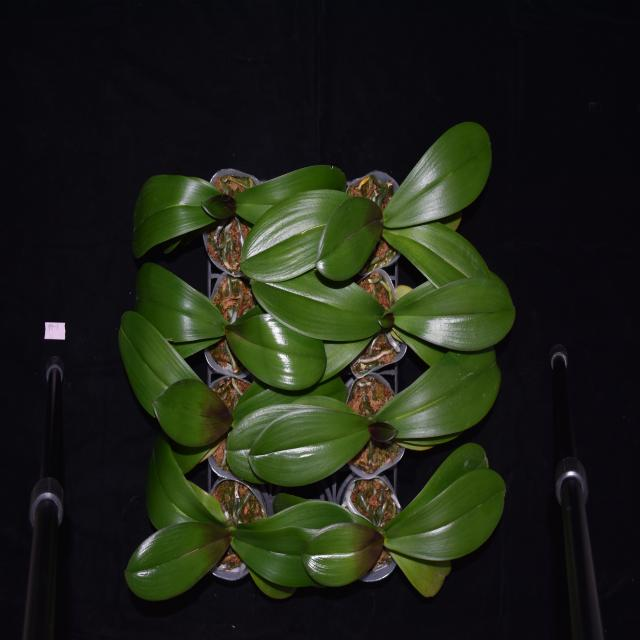leaf: (381, 352, 504, 448), (387, 124, 490, 236), (378, 435, 489, 535), (248, 264, 383, 344), (383, 470, 507, 557), (238, 191, 353, 282), (389, 267, 517, 348), (250, 410, 368, 492), (123, 516, 233, 603), (114, 307, 200, 416), (130, 263, 224, 362), (226, 304, 328, 390), (128, 169, 224, 257), (382, 216, 494, 290), (145, 437, 218, 538), (234, 160, 351, 223), (313, 194, 386, 294), (227, 512, 318, 589), (226, 404, 305, 488), (300, 520, 384, 588), (148, 380, 232, 448), (239, 500, 357, 534), (385, 542, 455, 596), (392, 323, 447, 366), (323, 336, 371, 380), (248, 564, 291, 598), (198, 192, 236, 224), (368, 417, 398, 444), (377, 303, 394, 332)
